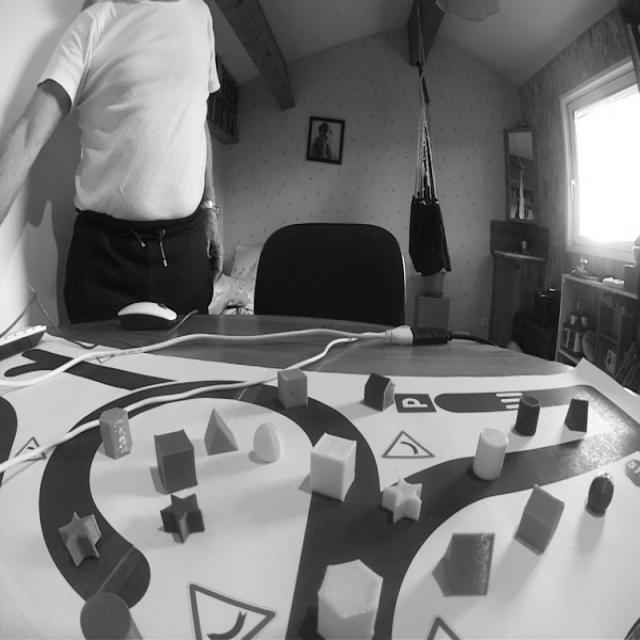ball: (250, 417, 287, 469), (585, 470, 617, 522)
cube: (306, 427, 360, 505), (149, 430, 201, 494), (276, 366, 311, 414)
cylinder: (470, 422, 510, 487), (511, 392, 543, 440)
hexagon: (315, 554, 387, 640), (98, 406, 136, 462)
home: (361, 367, 397, 415)
star: (54, 508, 109, 574), (377, 469, 429, 529), (156, 492, 210, 546)
triangle: (439, 527, 497, 603), (204, 402, 242, 458), (562, 394, 591, 438)
